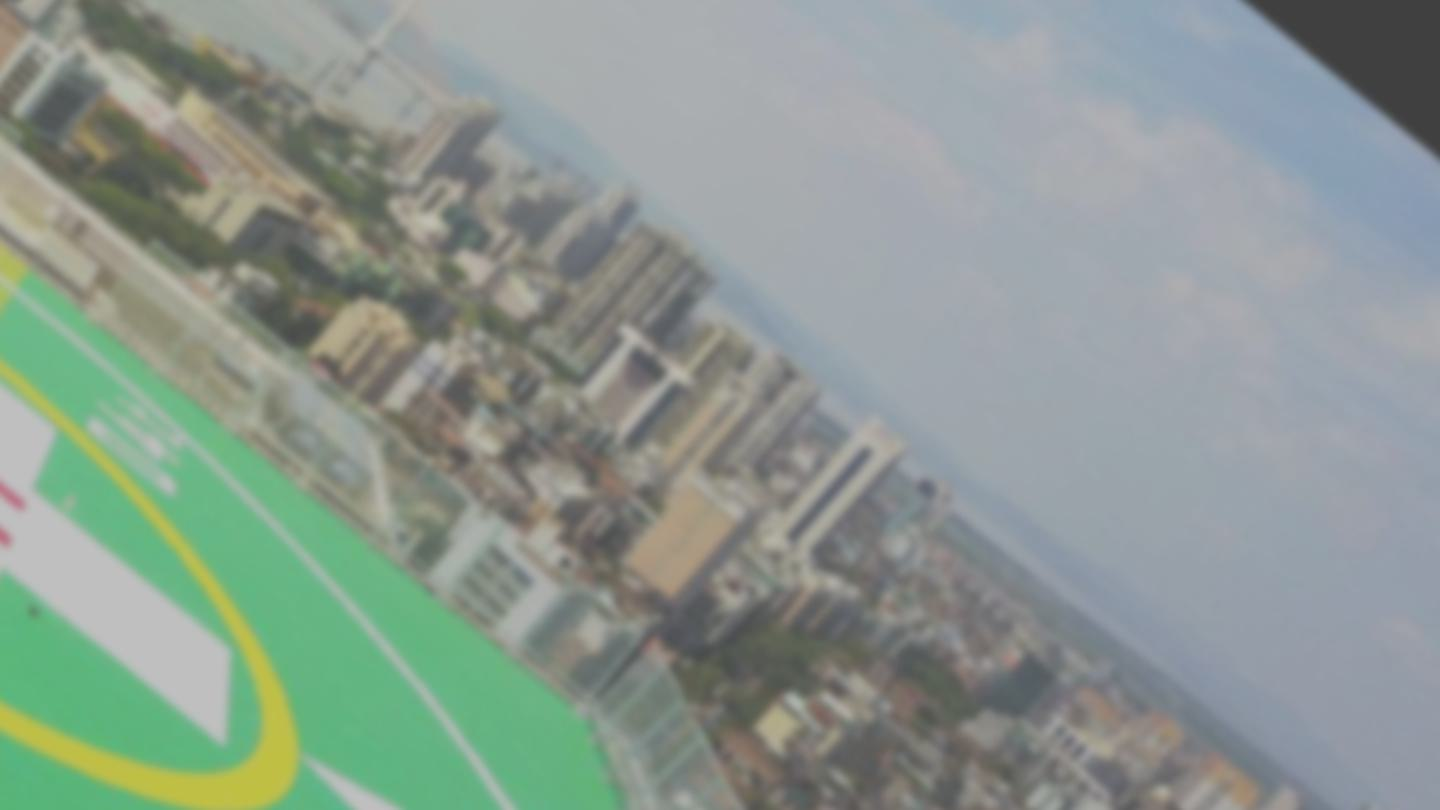Apron: (1, 355, 310, 808)
